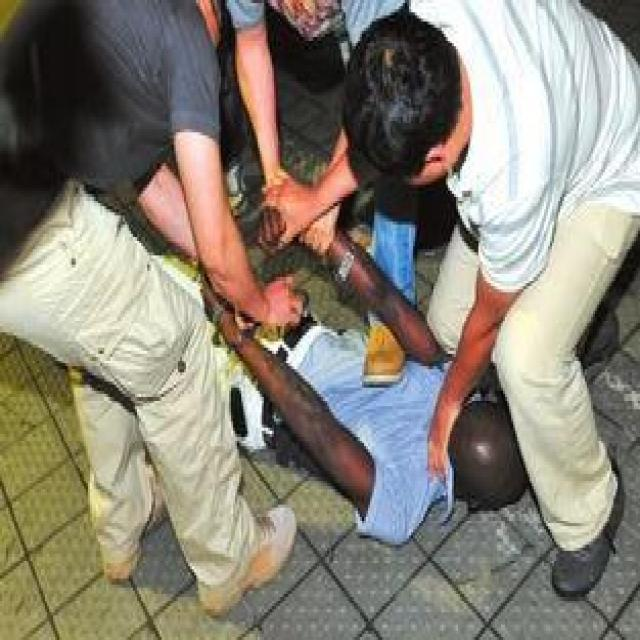fall: (221, 185, 542, 588)
